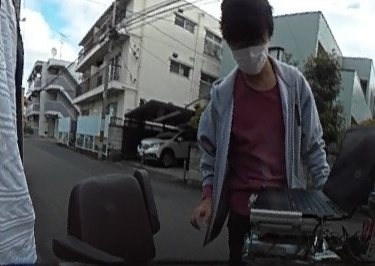person: (204, 0, 326, 266)
